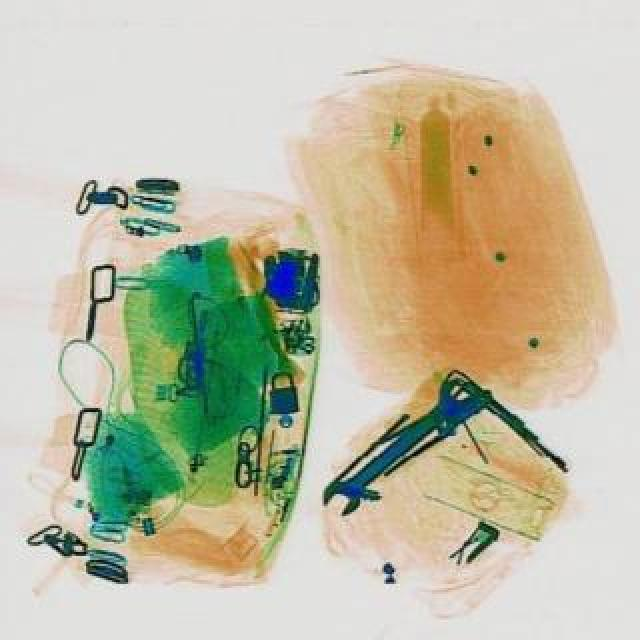scissors: (312, 370, 484, 520)
